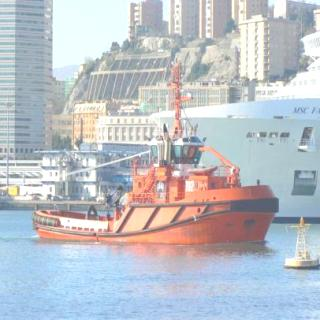Tug Boat: (22, 47, 281, 245)
